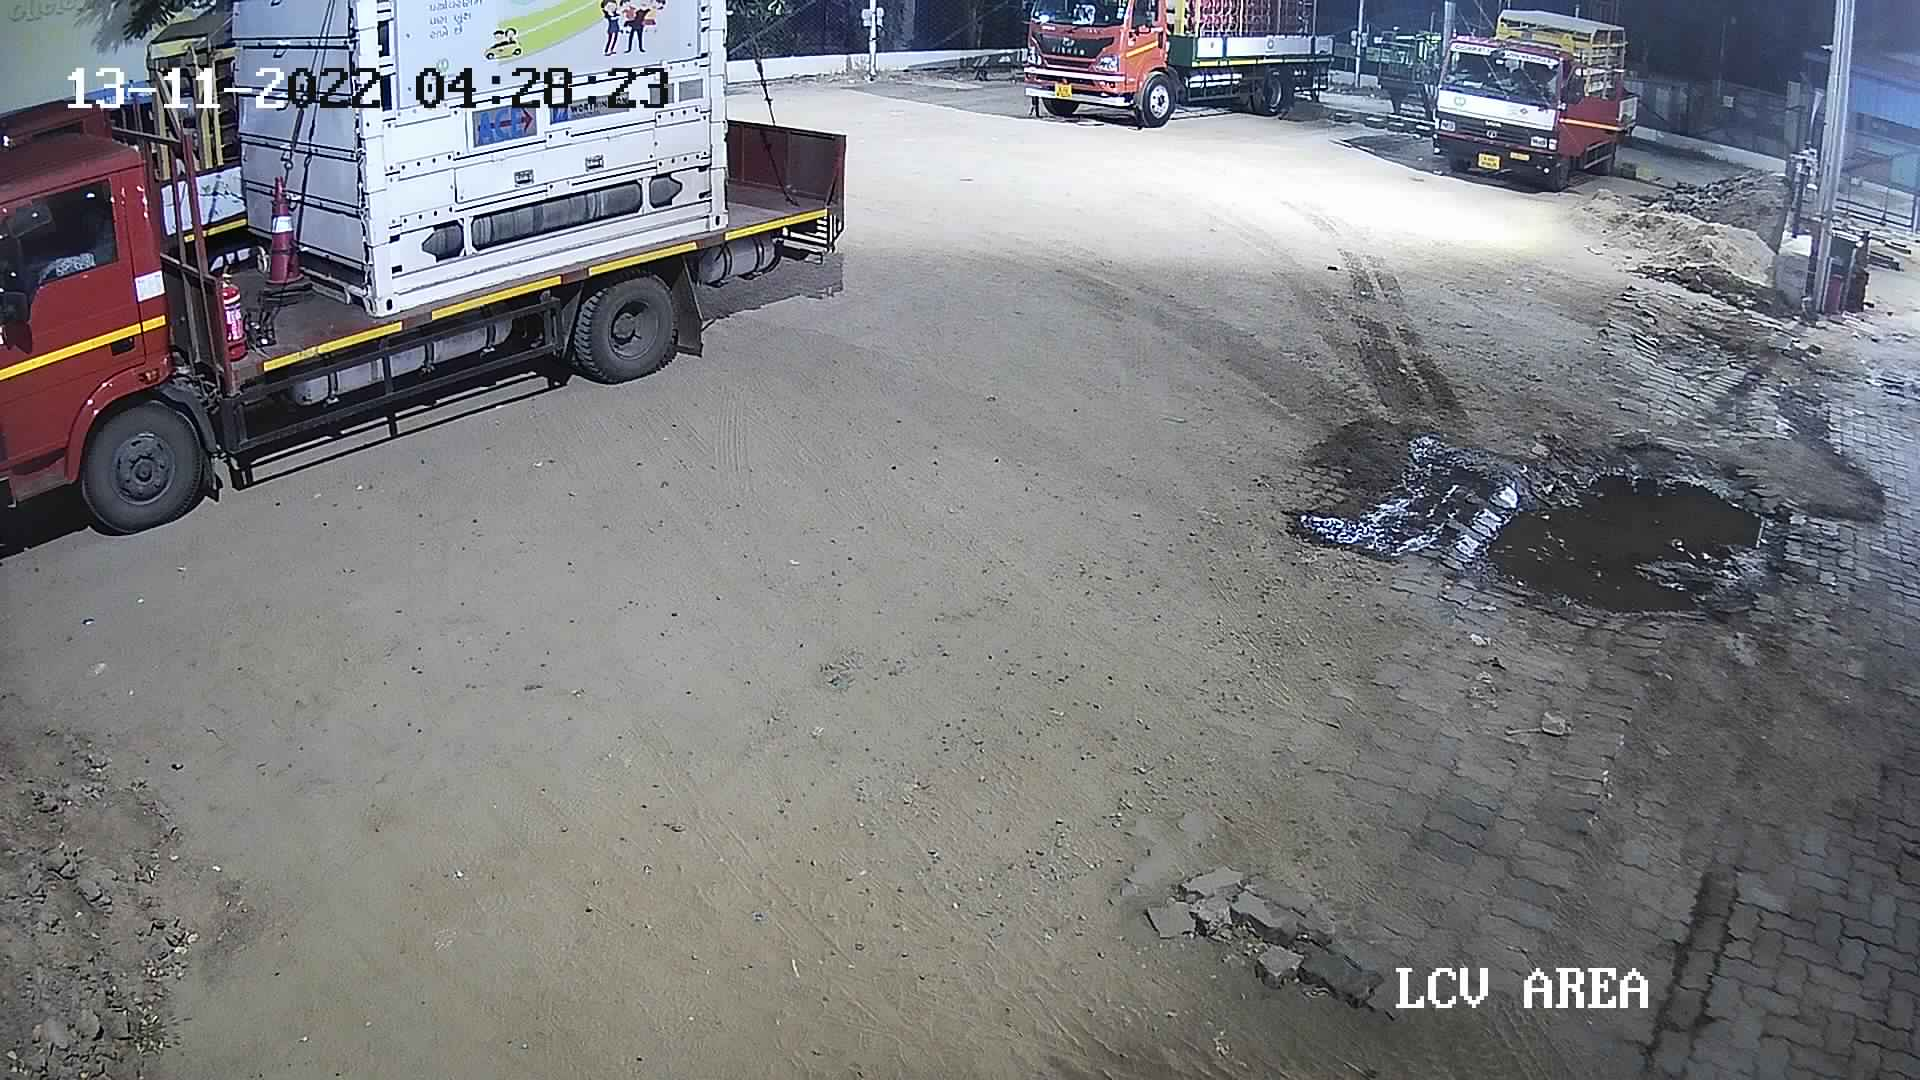HMV: (0, 1, 864, 546), (0, 1, 268, 280), (1418, 0, 1662, 196), (1006, 0, 1378, 127)
